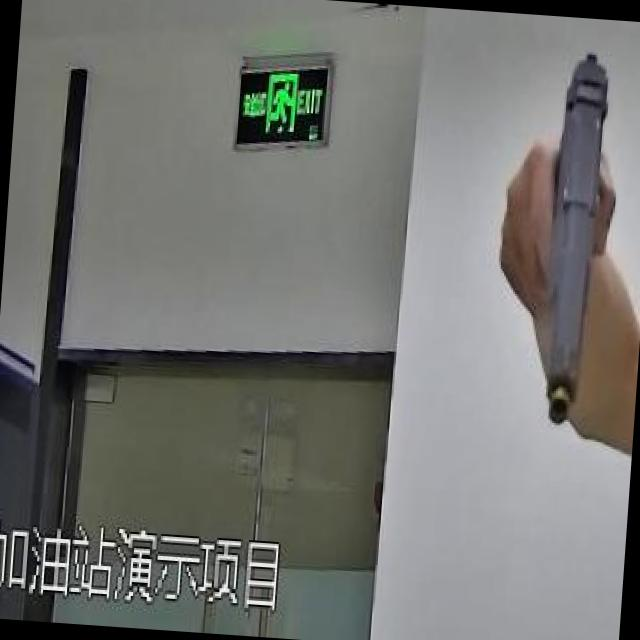Guns: (481, 12, 640, 457)
